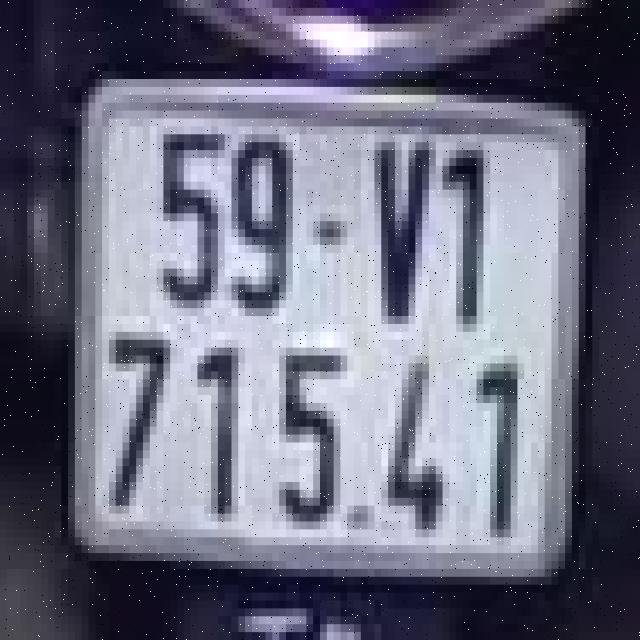1: (466, 360, 542, 549), (443, 138, 497, 336), (201, 344, 255, 525)
4: (381, 352, 456, 533)
5: (143, 123, 225, 312), (272, 340, 348, 529)
7: (96, 320, 170, 518)
9: (228, 126, 303, 316)
V: (371, 126, 439, 332)
